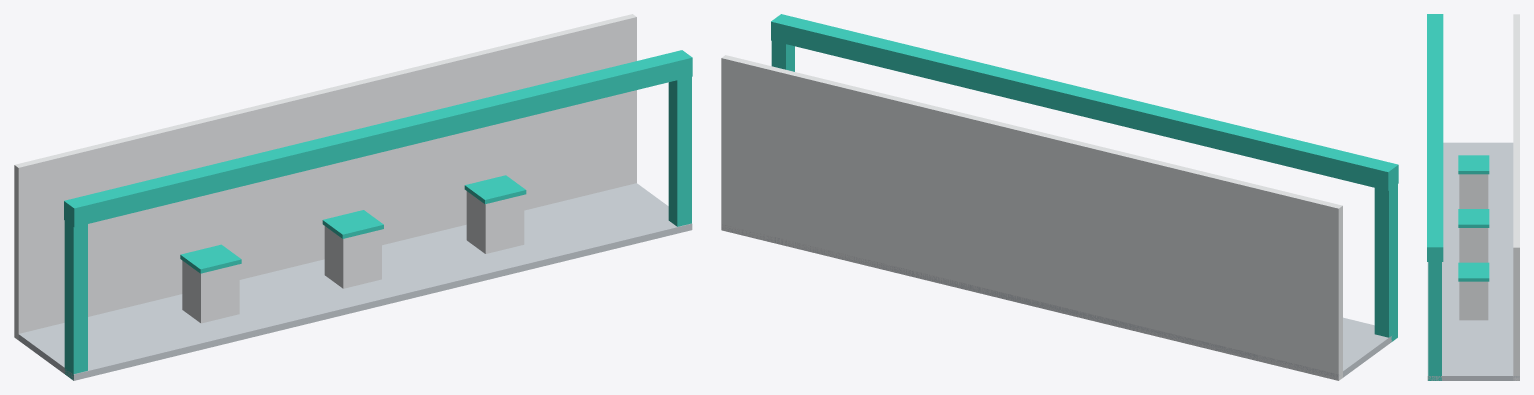
3 views of the same model, side by side, from view 1: azimuth 30°, elevation 25°; view 2: azimuth 150°, elevation 25°; view 3: azimuth 270°, elevation 25° (orthographic). The views are drawn at different scales.
Parts seen in each view (by area): view 1: Exhibition Booth Concept; view 2: Exhibition Booth Concept; view 3: Exhibition Booth Concept.
Boxes of the visible parts, box(x1,y1,x2,y2) form: Exhibition Booth Concept: box(14, 14, 692, 380); Exhibition Booth Concept: box(721, 14, 1398, 380); Exhibition Booth Concept: box(1427, 14, 1519, 380).
Size of the model in its own units: 12 by 3.2 by 2.01.
